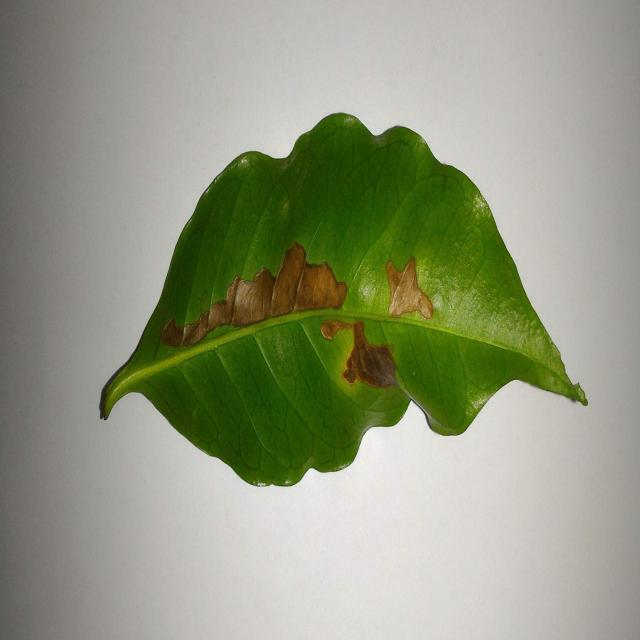miner: (161, 242, 347, 346), (321, 320, 401, 389), (387, 258, 433, 319)
